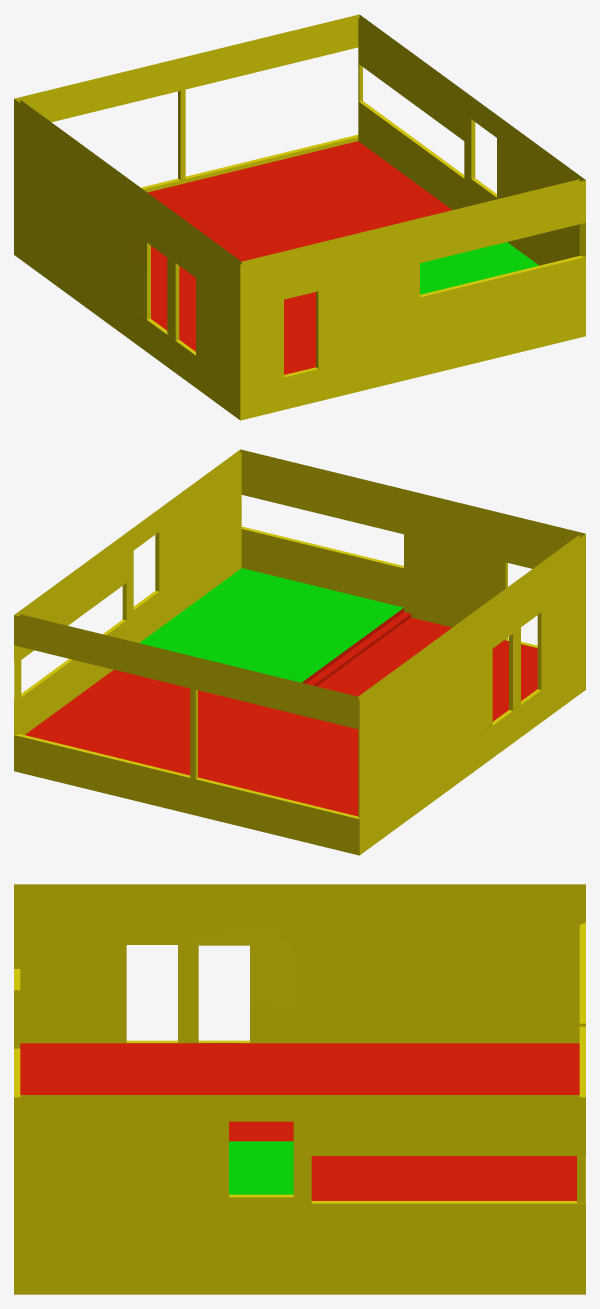
File: Huis 3.fbx
3 renders of one model, top to bottom at view 1: azimuth 30°, elevation 25°; view 2: azimuth 150°, elevation 25°; view 3: azimuth 270°, elevation 25°, orthographic. The views are drawn at different scales.
Parts seen in each view (by area): view 1: pCube24; view 2: pCube24, pCube25; view 3: pCube24.
Boxes of the visible parts, <box> form: pCube24: <box>14,14,585,420</box>; pCube24: <box>14,449,585,855</box>; pCube25: <box>14,645,21,734</box>; pCube24: <box>14,884,585,1294</box>.
Bounding box in the file's own units: 11.23 × 4.85 × 12.74.
